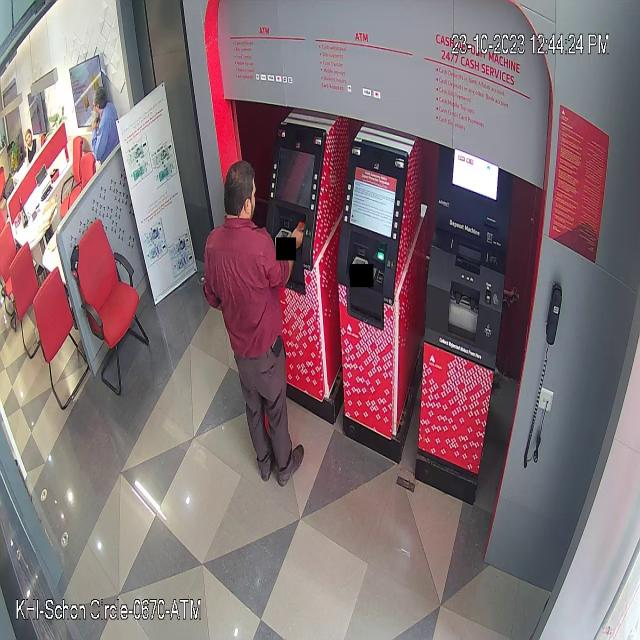atm-card: (293, 214, 310, 234)
